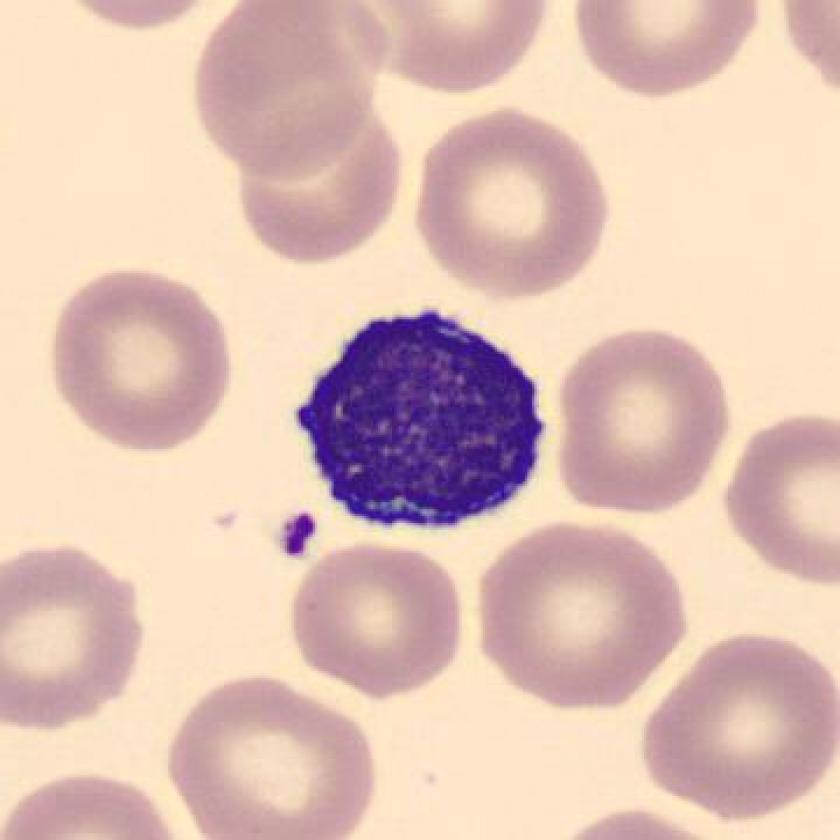lymphocyte: (277, 295, 571, 552)
